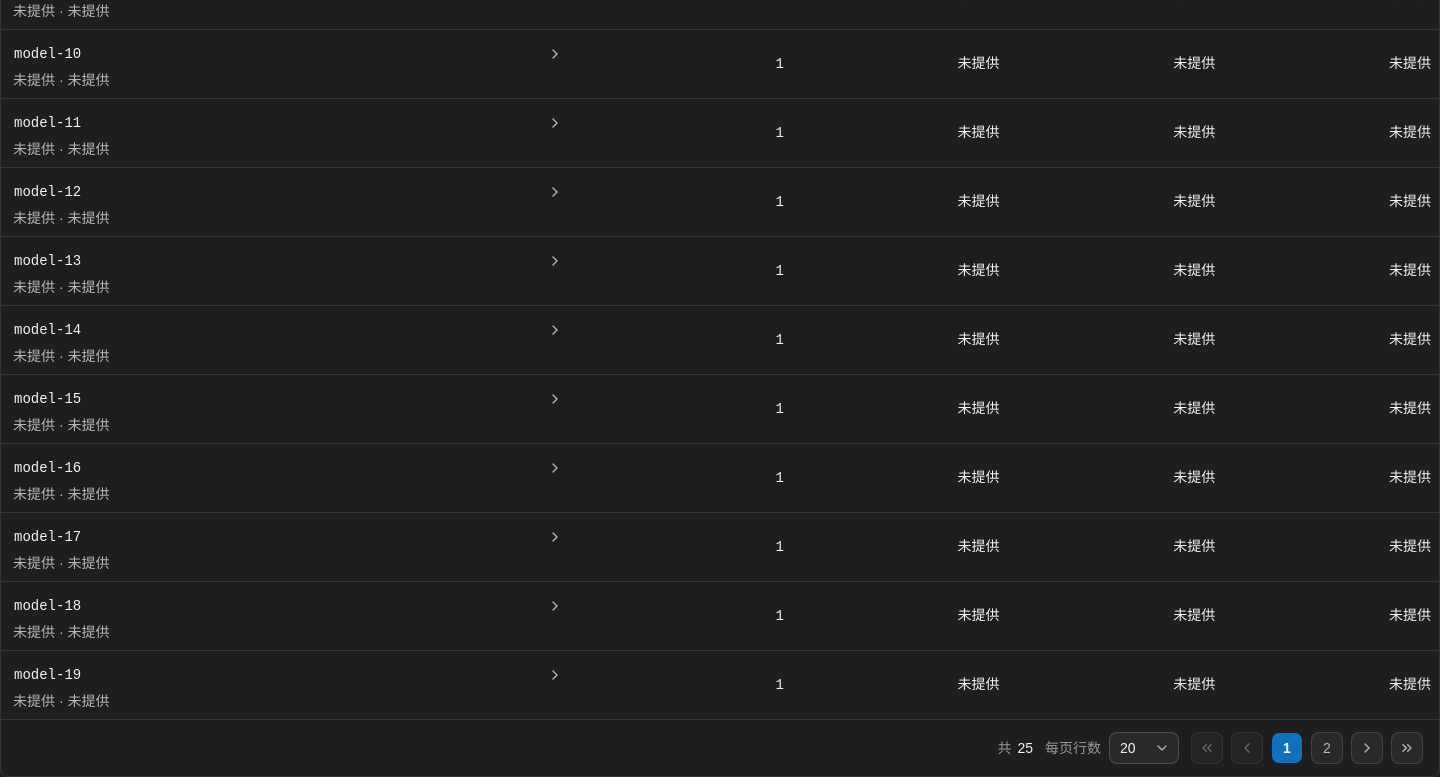
it: 远程价卡阅读 › 模型超过一页时分页，搜索后从第一页展示匹配结果
The width and height of the screenshot is (1440, 777).
(page scrolled)
Click the button named "转到下一页" at x=1367, y=748, box [1351,732,1383,764]
(page scrolled)
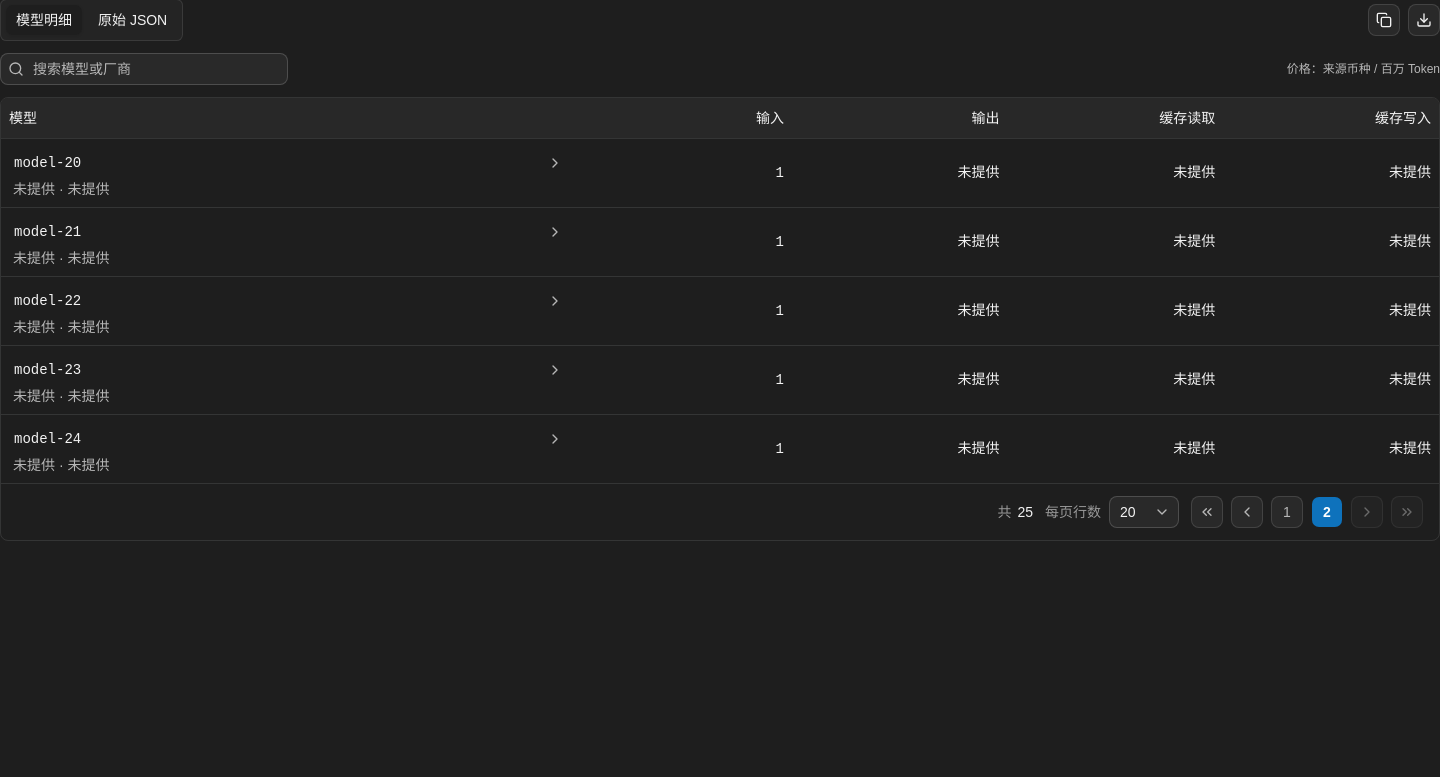
expect the button with aria-label "查看 model-24 明细" is shown: met, box [9,422,568,454]
Type "model-0" into the field labelled "搜索模型或厂商" at x=144, y=69, box [0,53,288,85]
(page scrolled)
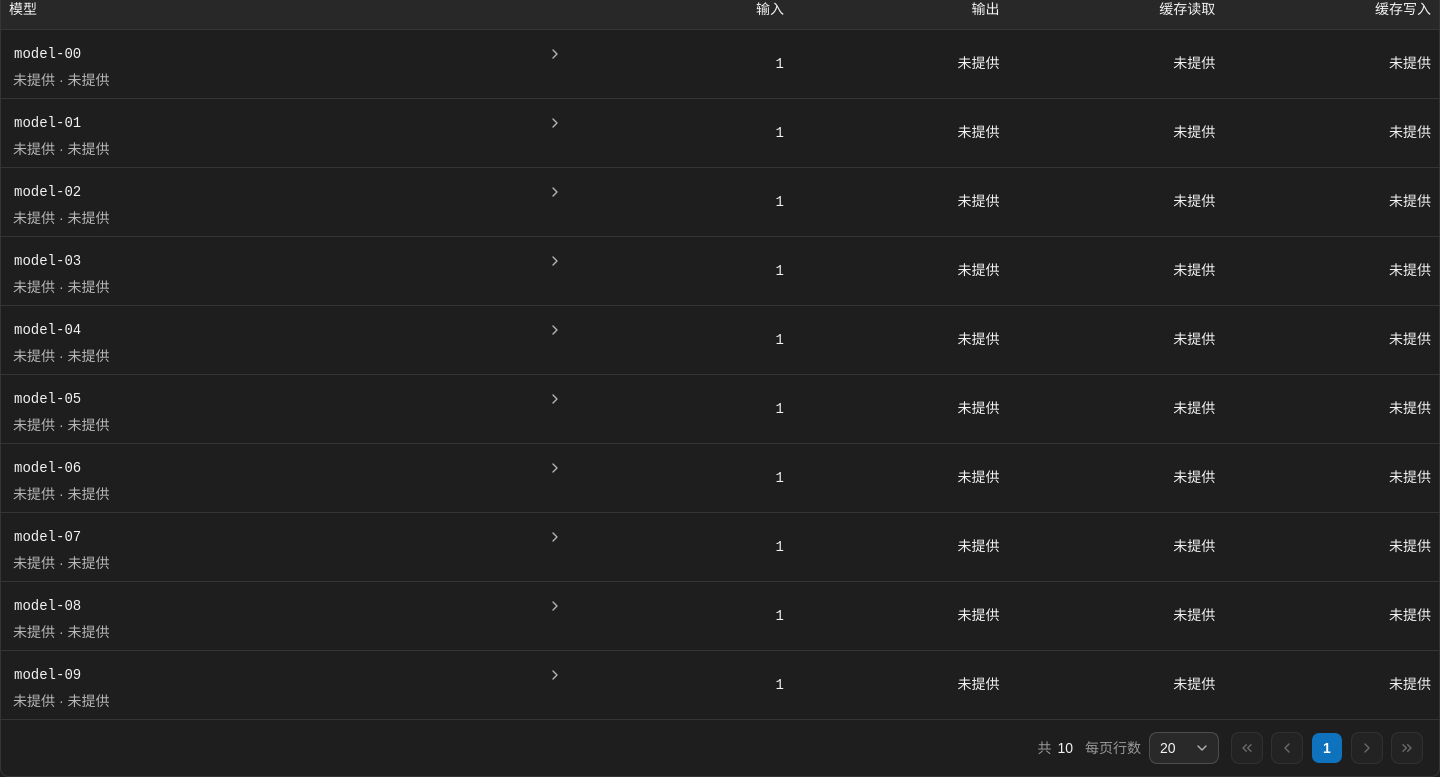
expect the button named "转到上一页" is disabled: met, box [1271,732,1303,764]
expect the button with aria-label "查看 model-00 明细" is shown: met, box [9,38,568,70]
